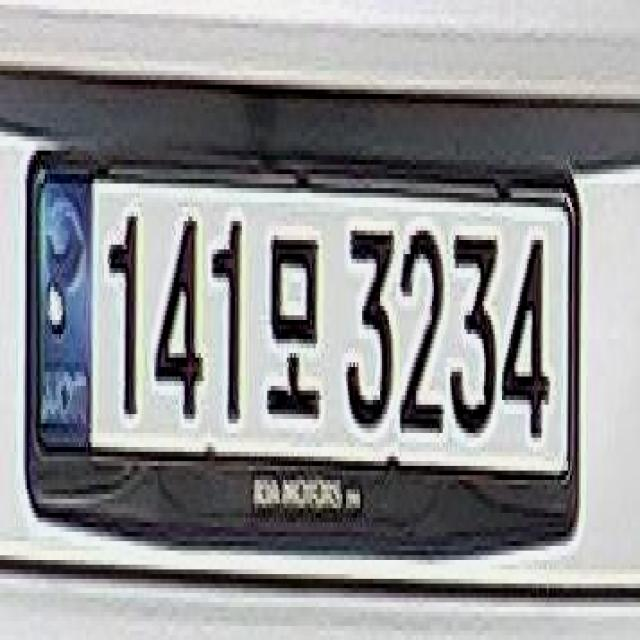illegal_plate: (23, 140, 589, 548)
